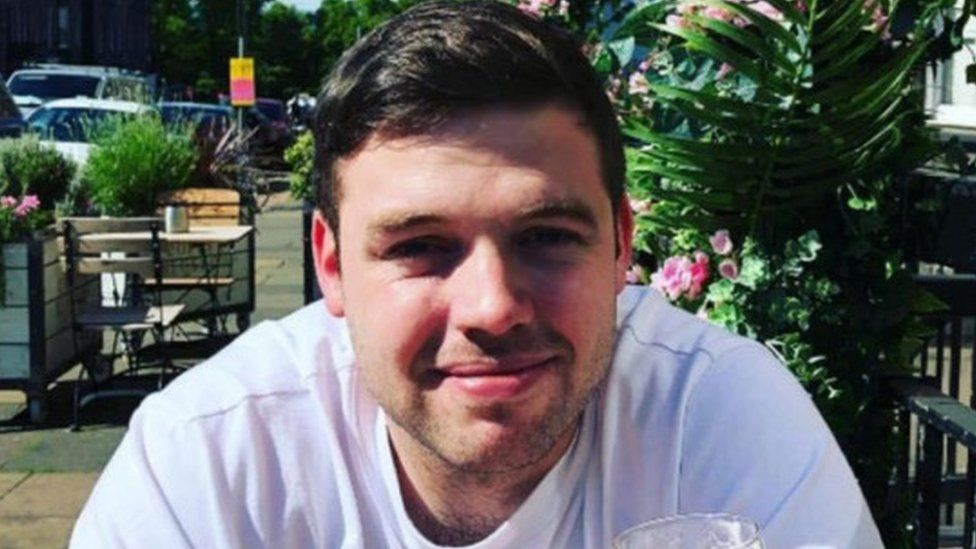Without Helmet: (298, 1, 650, 482)
